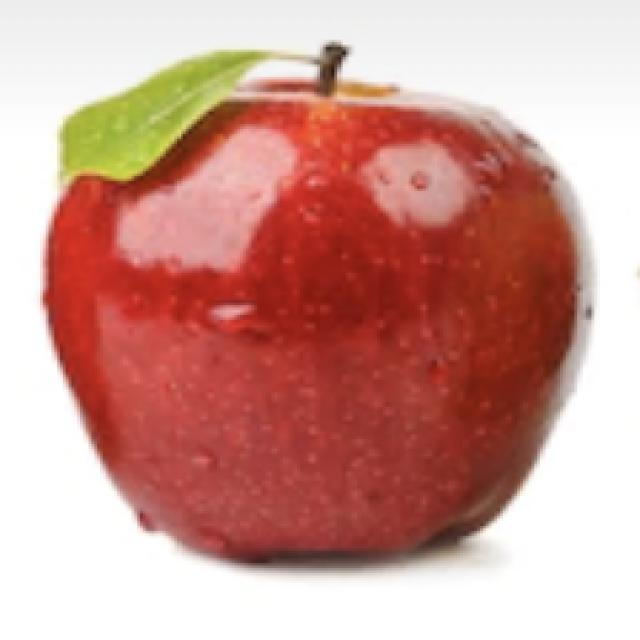Fresh Apple: (56, 87, 556, 565)
